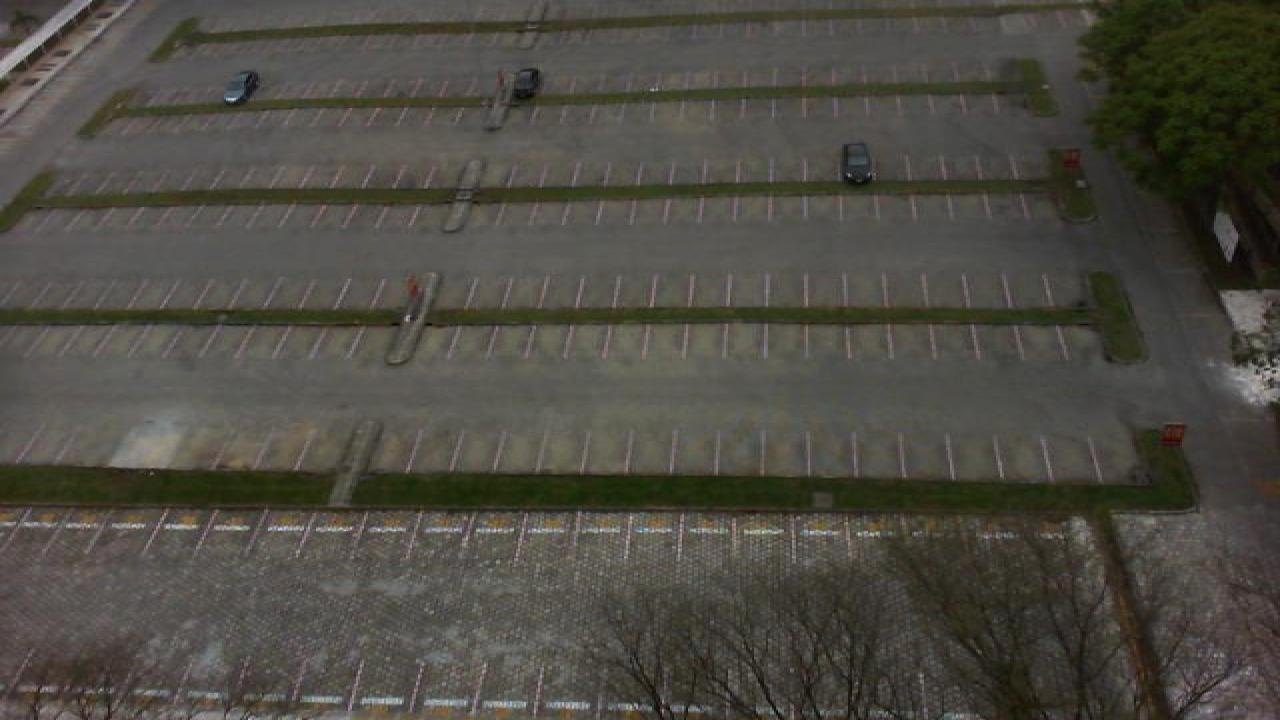Car: (840, 142, 876, 185), (222, 70, 260, 106), (510, 68, 542, 102)
